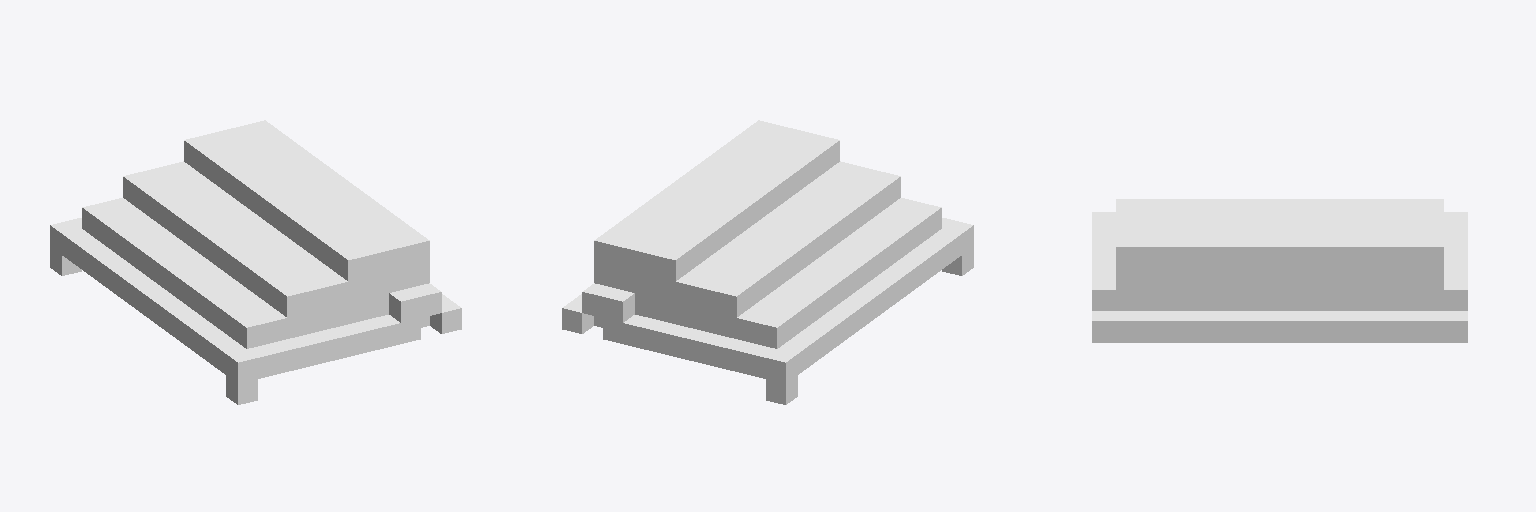
File: FireSpellBook-1.obj
3 views of the same model, side by side, from view 1: azimuth 30°, elevation 25°; view 2: azimuth 150°, elevation 25°; view 3: azimuth 270°, elevation 25° (orthographic).
Parts seen in each view (by area): view 1: object 1; view 2: object 1; view 3: object 1.
Part boxes in pixels (left/top/right/bottom): object 1: left=50, top=120, right=461, bottom=404; object 1: left=562, top=120, right=973, bottom=404; object 1: left=1092, top=199, right=1467, bottom=342.
Bounding box in the file's own units: 1.1 × 0.5 × 1.6.